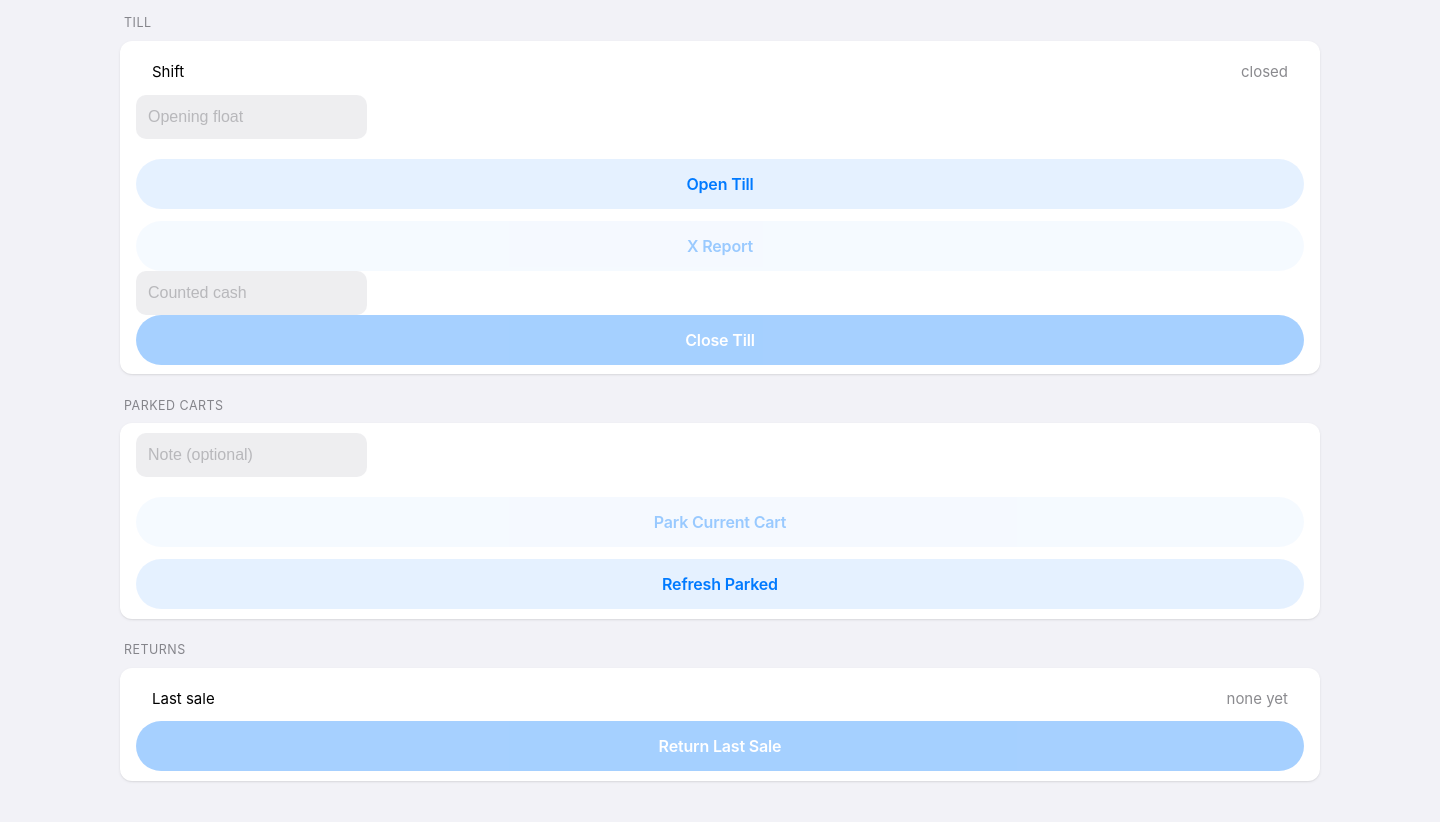
Test: StoreOpsPanel shift recovery › picks up the shift the hub says is already open for this register
Click the button "Open Till" at [720, 184], box 136,159 -> 1304,209
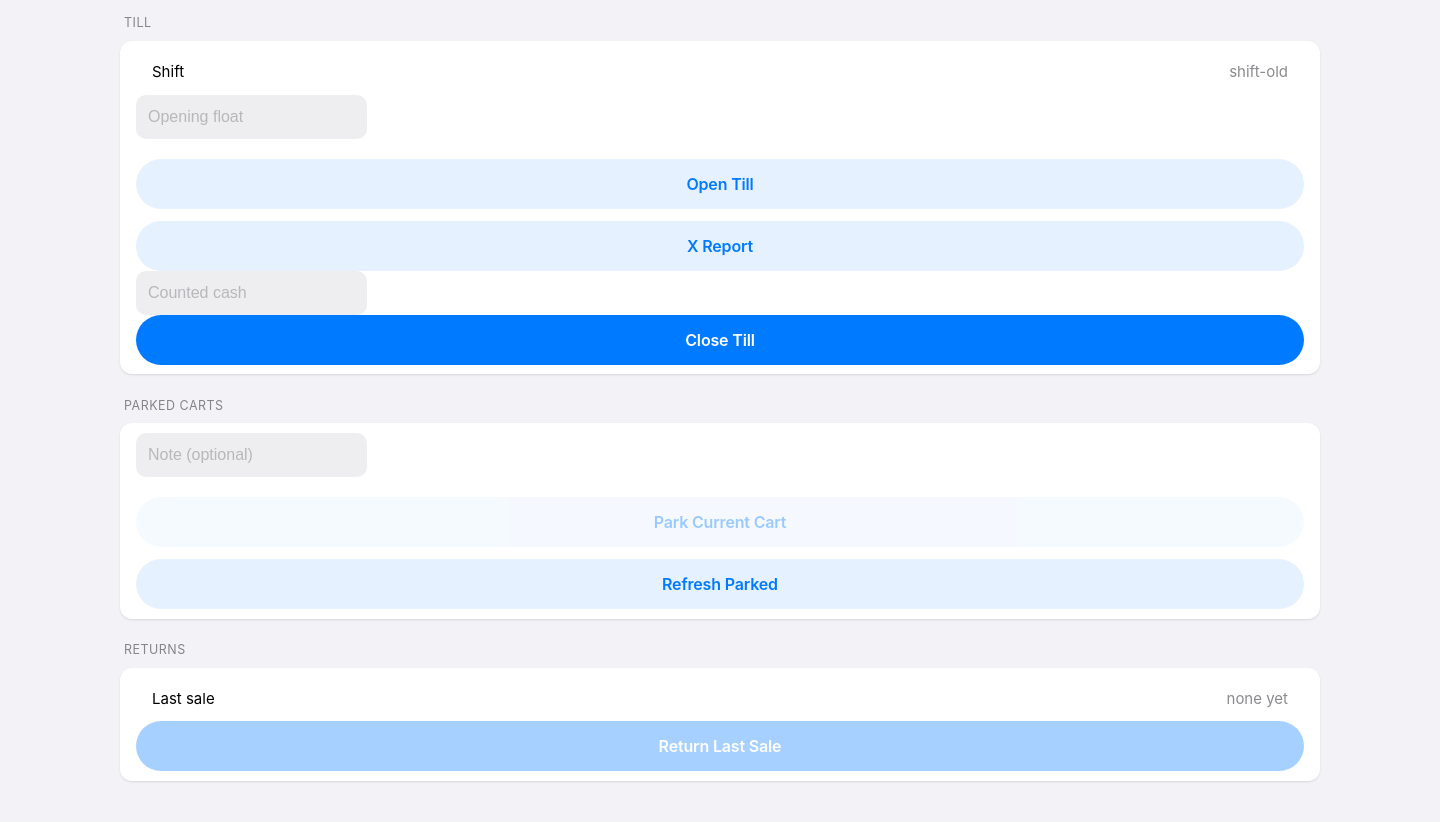
Expected: the text "shift-old" is shown, 1229,62 -> 1288,84
